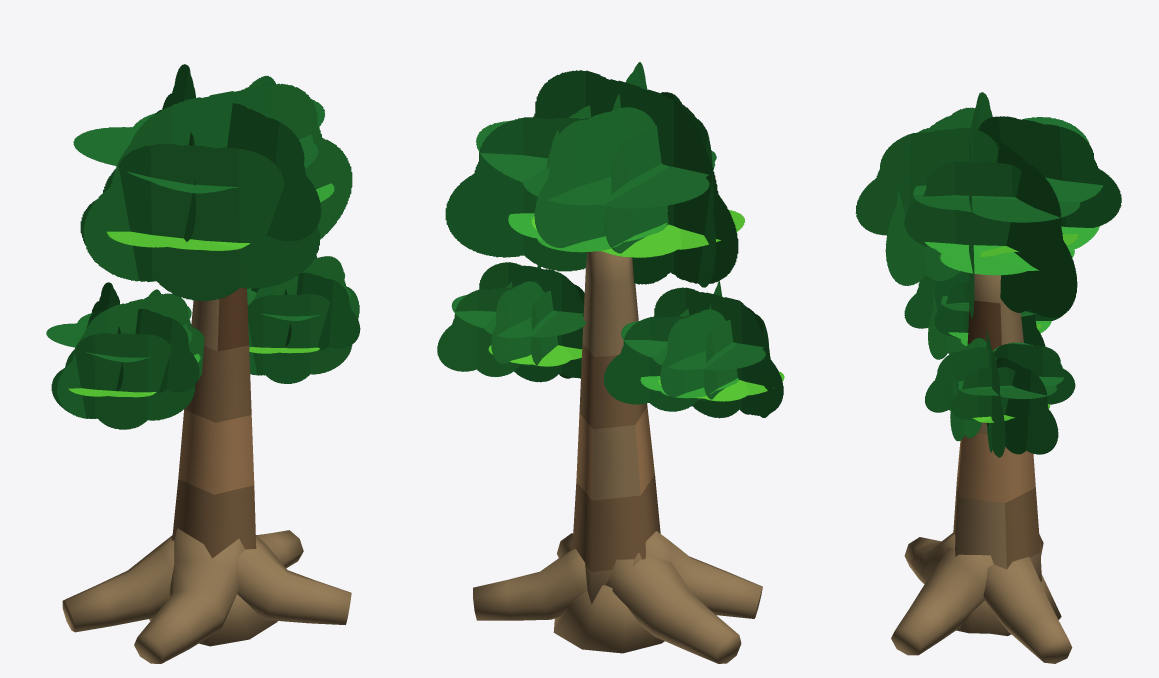
The model's file is TREE_EUCALYPTUS_001_v016_LOD_MAP.glb.
The picture shows the model from 3 angles, left to right: view 1: azimuth 30°, elevation 25°; view 2: azimuth 150°, elevation 25°; view 3: azimuth 270°, elevation 25°; orthographic projection. The views are drawn at different scales.
Visible parts, largest first — view 1: TREE_EUCALYPTUS_001_MAP_AUTHORED_FOLIAGE_ISLANDS, TREE_EUCALYPTUS_001_MAP_MAIN_TRUNK, TREE_EUCALYPTUS_001_MAP_ROOT_FRONT_LEFT, TREE_EUCALYPTUS_001_MAP_ROOT_FRONT_RIGHT, TREE_EUCALYPTUS_001_MAP_ROOT_LONG_LEFT, TREE_EUCALYPTUS_001_MAP_SCULPTED_ROOT_COLLAR, TREE_EUCALYPTUS_001_MAP_ROOT_RIGHT_SIDE; view 2: TREE_EUCALYPTUS_001_MAP_AUTHORED_FOLIAGE_ISLANDS, TREE_EUCALYPTUS_001_MAP_MAIN_TRUNK, TREE_EUCALYPTUS_001_MAP_ROOT_LONG_LEFT, TREE_EUCALYPTUS_001_MAP_ROOT_RIGHT_SIDE, TREE_EUCALYPTUS_001_MAP_SCULPTED_ROOT_COLLAR, TREE_EUCALYPTUS_001_MAP_ROOT_FRONT_LEFT; view 3: TREE_EUCALYPTUS_001_MAP_AUTHORED_FOLIAGE_ISLANDS, TREE_EUCALYPTUS_001_MAP_MAIN_TRUNK, TREE_EUCALYPTUS_001_MAP_ROOT_FRONT_RIGHT, TREE_EUCALYPTUS_001_MAP_ROOT_RIGHT_SIDE, TREE_EUCALYPTUS_001_MAP_ROOT_FRONT_LEFT, TREE_EUCALYPTUS_001_MAP_SCULPTED_ROOT_COLLAR.
Part boxes in pixels (bbox=[...]): TREE_EUCALYPTUS_001_MAP_AUTHORED_FOLIAGE_ISLANDS: bbox=[46, 64, 360, 429]; TREE_EUCALYPTUS_001_MAP_MAIN_TRUNK: bbox=[172, 287, 256, 558]; TREE_EUCALYPTUS_001_MAP_ROOT_FRONT_LEFT: bbox=[134, 528, 245, 663]; TREE_EUCALYPTUS_001_MAP_ROOT_FRONT_RIGHT: bbox=[237, 535, 351, 624]; TREE_EUCALYPTUS_001_MAP_ROOT_LONG_LEFT: bbox=[62, 535, 174, 632]; TREE_EUCALYPTUS_001_MAP_SCULPTED_ROOT_COLLAR: bbox=[149, 594, 277, 646]; TREE_EUCALYPTUS_001_MAP_ROOT_RIGHT_SIDE: bbox=[256, 530, 303, 568]; TREE_EUCALYPTUS_001_MAP_AUTHORED_FOLIAGE_ISLANDS: bbox=[437, 62, 784, 418]; TREE_EUCALYPTUS_001_MAP_MAIN_TRUNK: bbox=[572, 251, 660, 604]; TREE_EUCALYPTUS_001_MAP_ROOT_LONG_LEFT: bbox=[606, 555, 741, 663]; TREE_EUCALYPTUS_001_MAP_ROOT_RIGHT_SIDE: bbox=[473, 549, 587, 620]; TREE_EUCALYPTUS_001_MAP_SCULPTED_ROOT_COLLAR: bbox=[553, 585, 664, 653]; TREE_EUCALYPTUS_001_MAP_ROOT_FRONT_LEFT: bbox=[633, 531, 762, 618]; TREE_EUCALYPTUS_001_MAP_AUTHORED_FOLIAGE_ISLANDS: bbox=[855, 92, 1121, 457]; TREE_EUCALYPTUS_001_MAP_MAIN_TRUNK: bbox=[953, 274, 1041, 636]; TREE_EUCALYPTUS_001_MAP_ROOT_FRONT_RIGHT: bbox=[891, 547, 993, 655]; TREE_EUCALYPTUS_001_MAP_ROOT_RIGHT_SIDE: bbox=[983, 556, 1072, 663]; TREE_EUCALYPTUS_001_MAP_ROOT_FRONT_LEFT: bbox=[904, 533, 955, 583]; TREE_EUCALYPTUS_001_MAP_SCULPTED_ROOT_COLLAR: bbox=[956, 574, 1061, 633].
Bounding box in the file's own units: 4.08 × 6.57 × 3.3.
5 materials, 1 textured.
